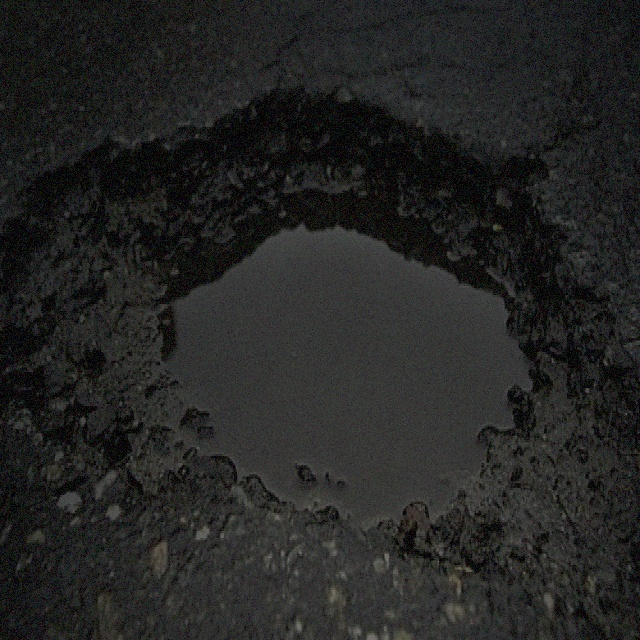pothole: (2, 61, 560, 554)
